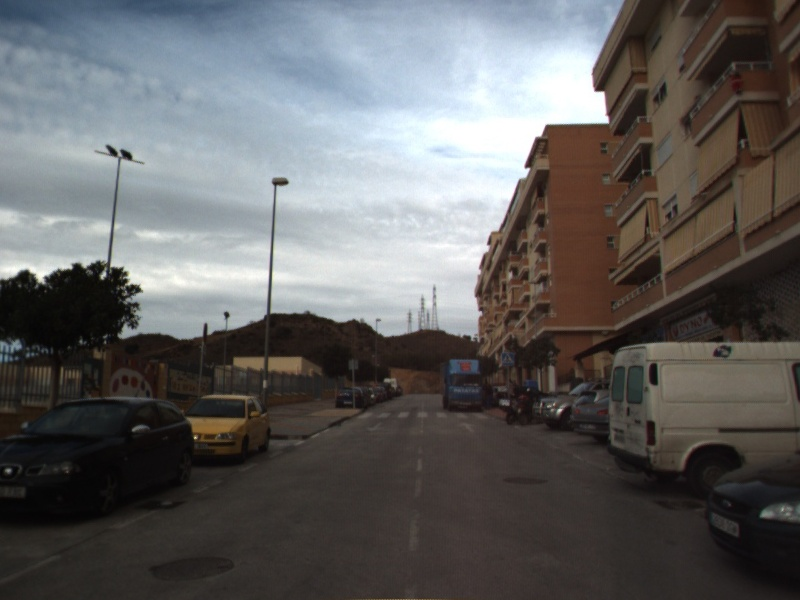STRAIGHT: (456, 420, 477, 435)
